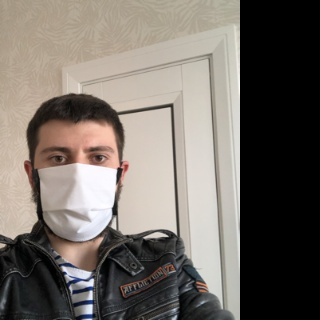with_mask: (33, 138, 123, 243)
